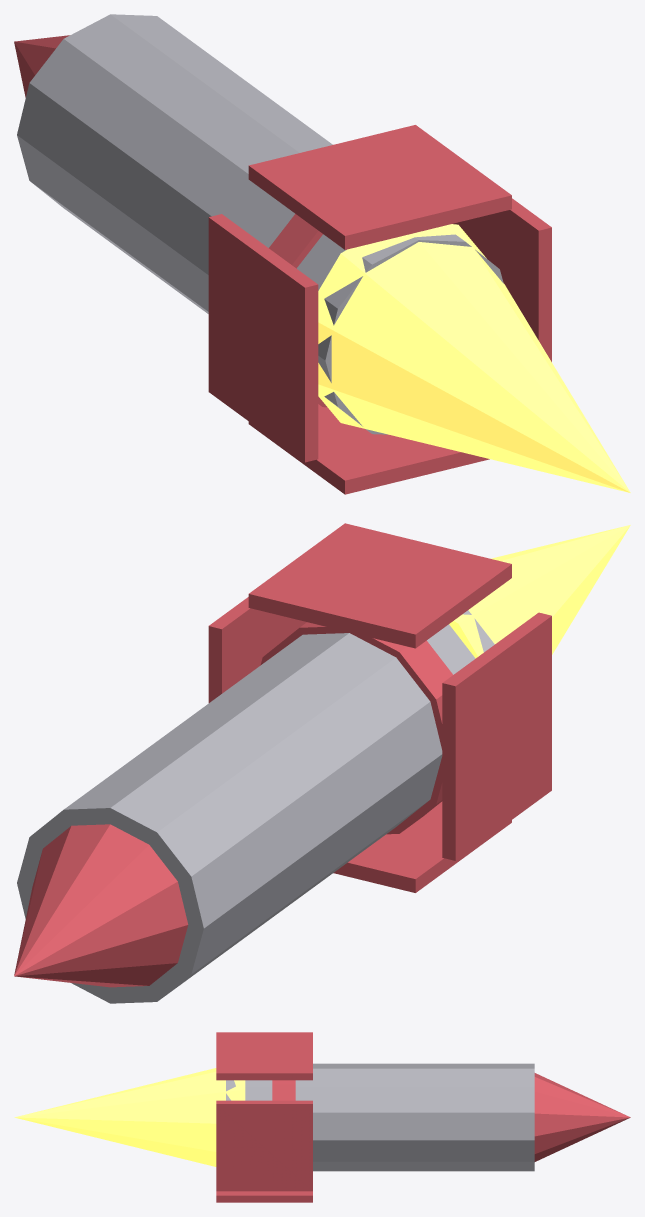
Rendered from rocket.glb.
The picture shows the model from 3 angles, top to bottom: view 1: azimuth 30°, elevation 25°; view 2: azimuth 150°, elevation 25°; view 3: azimuth 270°, elevation 25°; orthographic projection. The views are drawn at different scales.
Visible parts, largest first — view 1: rocket; view 2: rocket; view 3: rocket.
Part boxes in pixels (x1,y1,x2,y2): rocket: (14,14,630,494); rocket: (14,523,630,1003); rocket: (14,1032,630,1202).
Size of the model in its own units: 0.74 by 0.74 by 3.2.
